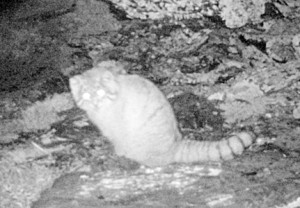cat: (66, 61, 261, 177)
